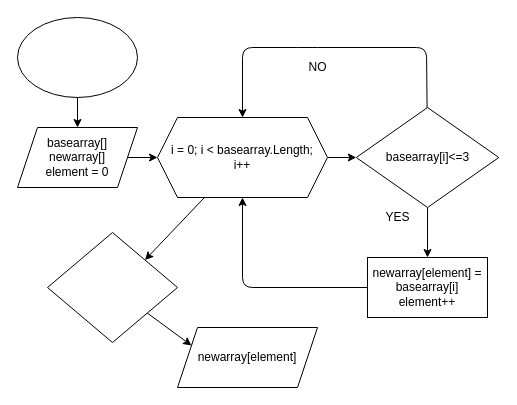
This 517x405 diagram has some shape labels left out. Each missing label, with the centre of its shape:
Begin: [77,57]
i>basearray.Length: [112,287]
